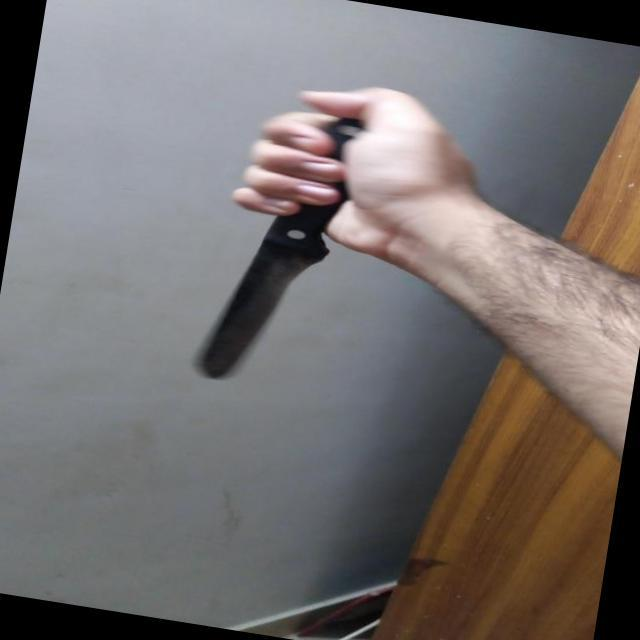Knife: (159, 56, 408, 404)
